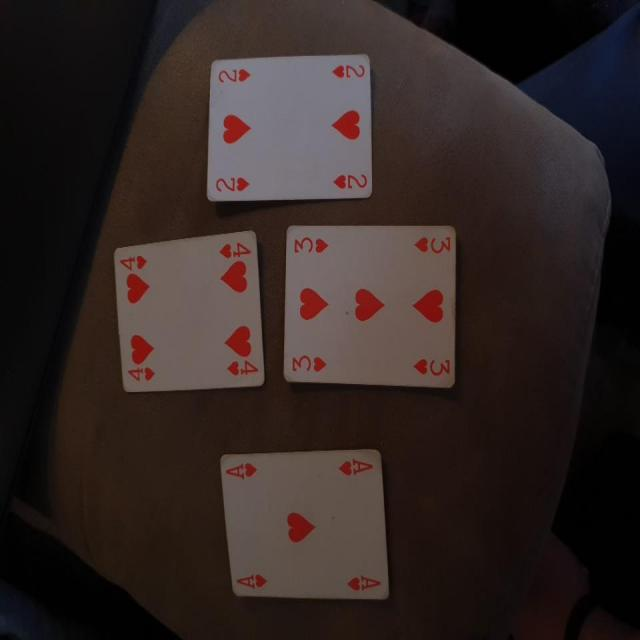2 Hearts: (199, 51, 383, 210)
3 Hearts: (276, 218, 461, 394)
4 Hearts: (101, 223, 268, 405)
A Hearts: (214, 437, 412, 610)
